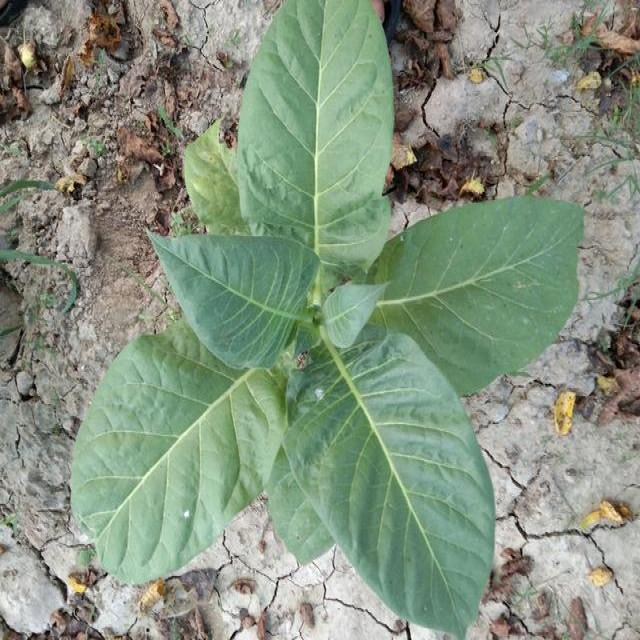crop: (72, 0, 580, 635)
